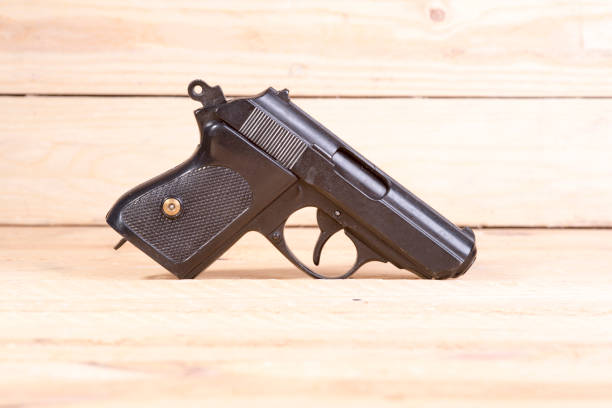gun: (105, 76, 477, 279)
